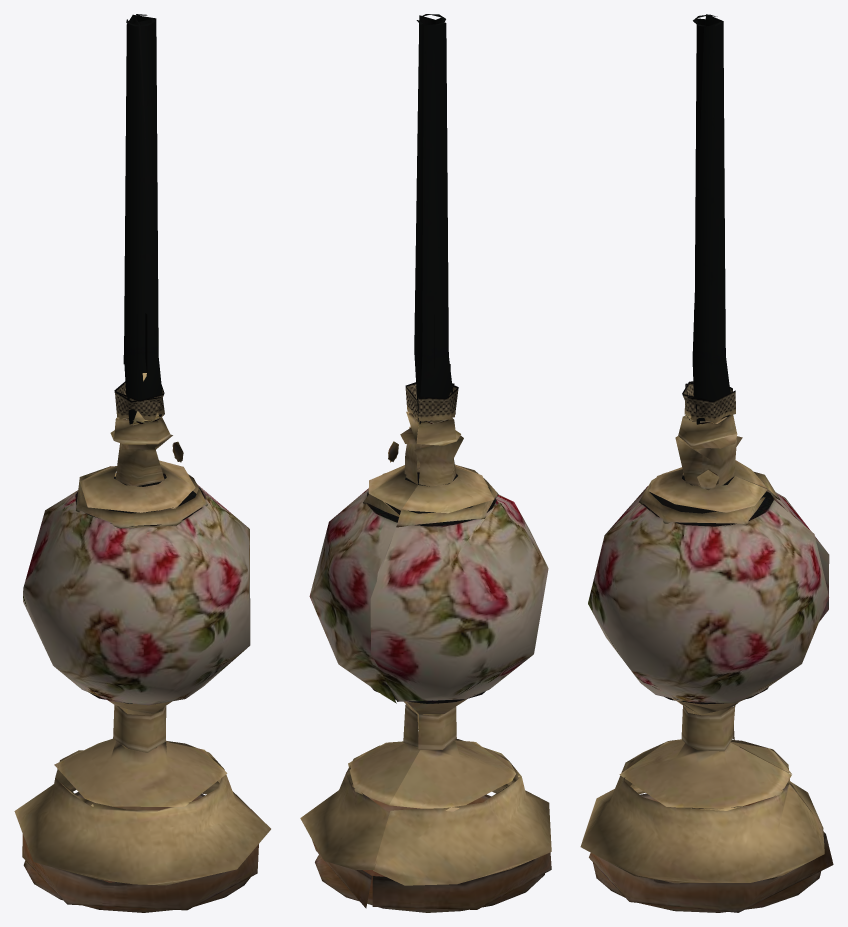
Rendered from ph_vintage_oil_lamp.glb.
3 views of the same model, side by side, from view 1: azimuth 30°, elevation 25°; view 2: azimuth 150°, elevation 25°; view 3: azimuth 270°, elevation 25° (orthographic).
Visible parts, largest first — view 1: vintage_oil_lamp_glass; view 2: vintage_oil_lamp_glass; view 3: vintage_oil_lamp_glass.
Boxes of the visible parts, x1=… form: vintage_oil_lamp_glass: x1=14, y1=14, x2=270, y2=912; vintage_oil_lamp_glass: x1=300, y1=14, x2=551, y2=912; vintage_oil_lamp_glass: x1=580, y1=14, x2=833, y2=912.
Size of the model in its own units: 0.2218 by 0.8017 by 0.2182.
Materials: 3 (3 with a texture image).
